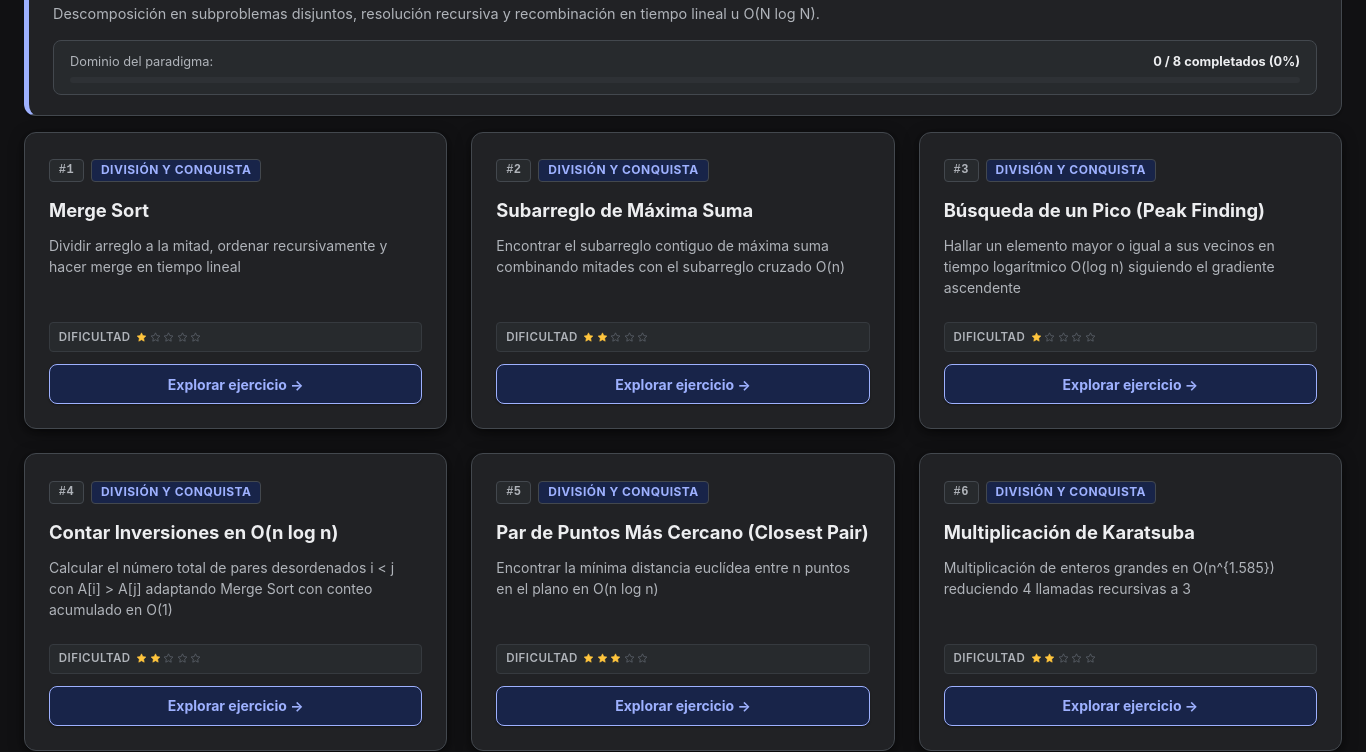
it: Instructor Mode & Honest Skip Modal › automatically unlocks Understand phase and displays banner when instructor mode is pre-enabled with valid token
Later steps or results of the test are not shown.
(page scrolled)
# Open first exercise (Interval Scheduling)
Click the 1st button with class "btn-open-exercise".
click(236, 384)  # box [49,364,422,404]
(page scrolled)
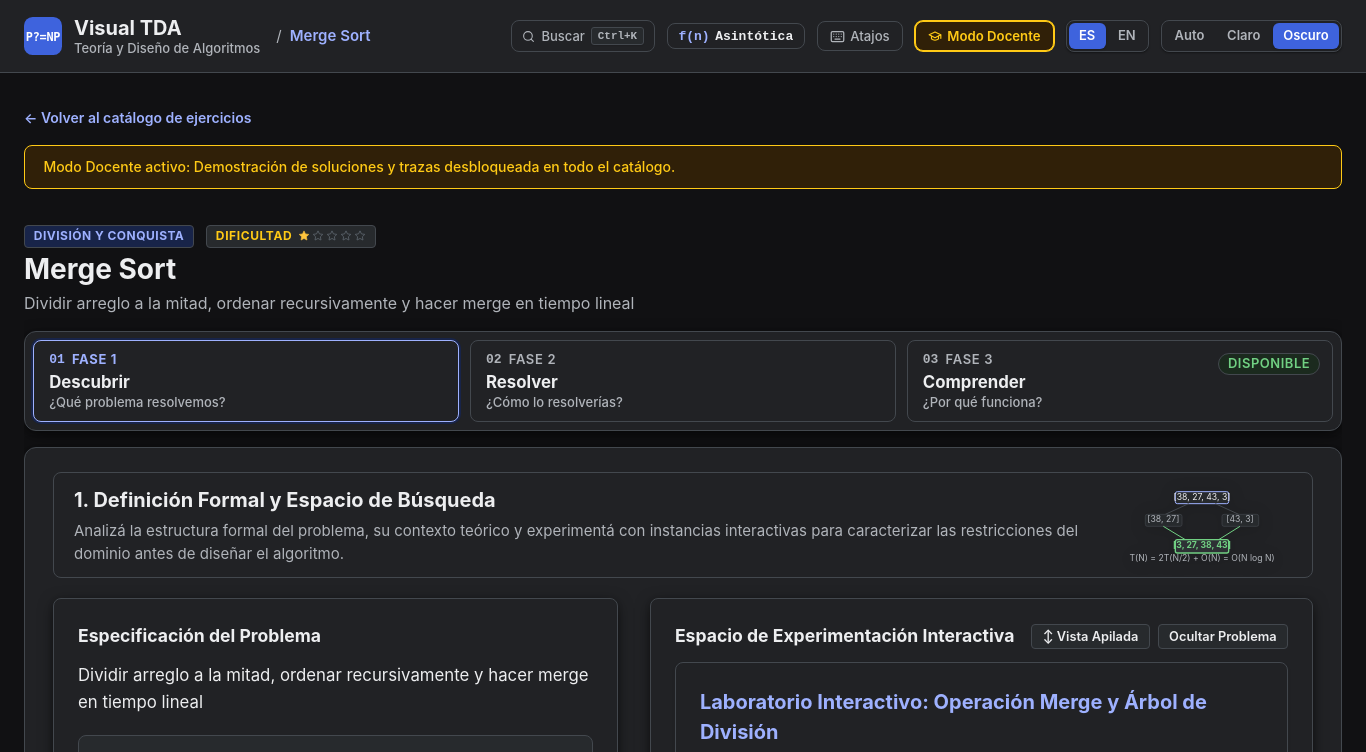
Now the message with class "instructor-banner" is shown, box [24,145,1342,189]
Now the message with class "instructor-banner" shows "Modo Docente activo", box [43,158,675,175]
Now the text "DISPONIBLE" is shown, box [1218,353,1320,375]
